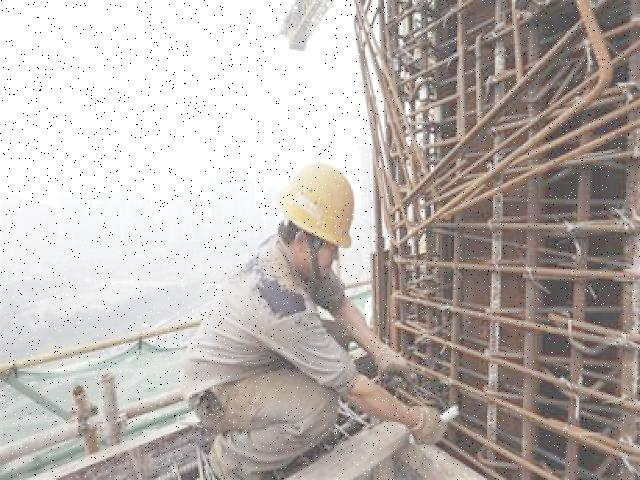Helmet: (274, 156, 361, 250)
